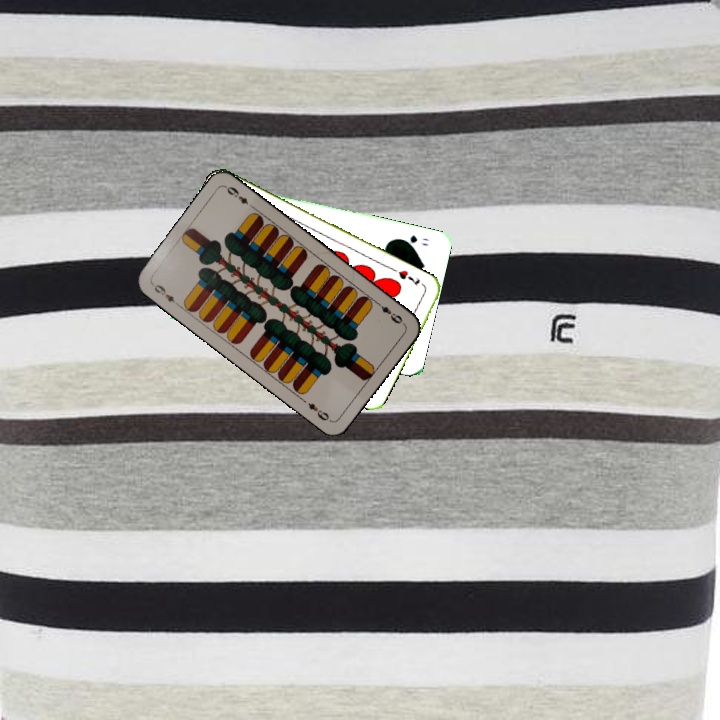E9: (148, 280, 182, 309), (372, 297, 405, 326)
GO: (395, 231, 432, 248)
H7: (389, 265, 422, 289)
